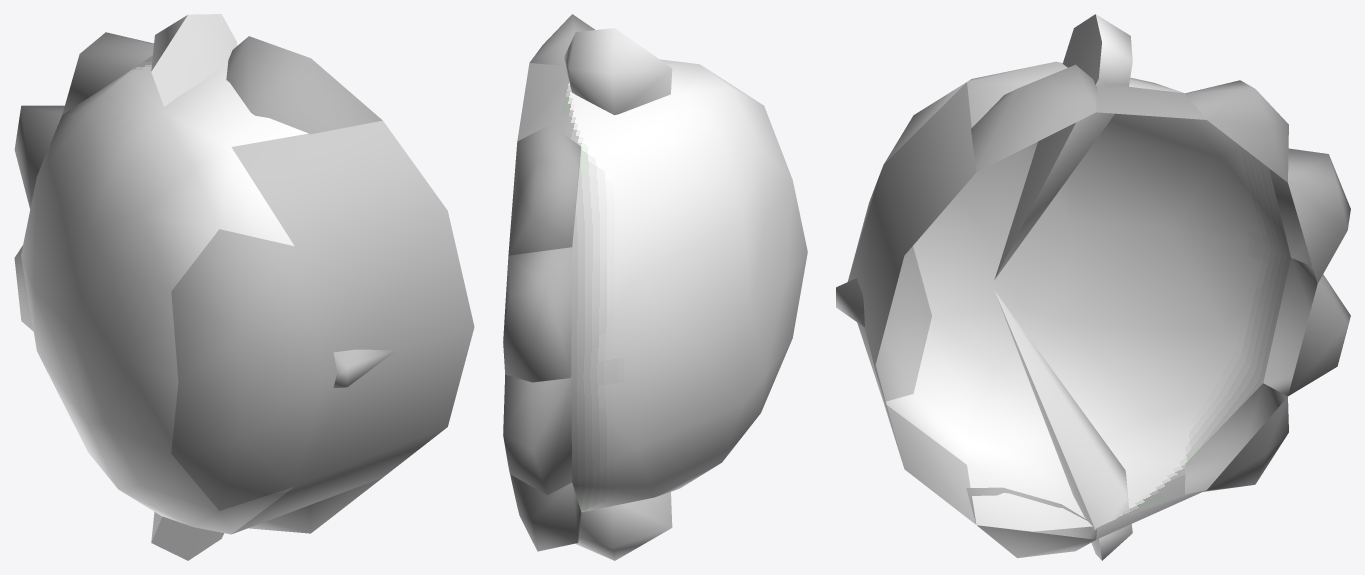
The model's file is boy15b.dae.
The picture shows the model from 3 angles, left to right: view 1: azimuth 30°, elevation 25°; view 2: azimuth 150°, elevation 25°; view 3: azimuth 270°, elevation 25°; orthographic projection. The views are drawn at different scales.
Parts seen in each view (by area): view 1: vsn_mesh_0_, vsn_mesh_1_, vsn_mesh_2_; view 2: vsn_mesh_0_; view 3: vsn_mesh_0_, vsn_mesh_1_, vsn_mesh_2_.
Boxes of the visible parts, x1,y1,x2,y2 form: vsn_mesh_0_: (14,14,382,560); vsn_mesh_1_: (231,120,474,533); vsn_mesh_2_: (171,229,323,510); vsn_mesh_0_: (503,14,807,560); vsn_mesh_0_: (884,14,1350,560); vsn_mesh_1_: (836,82,976,524); vsn_mesh_2_: (847,167,931,401).
Bounding box in the file's own units: 15.5 × 26.71 × 23.08.
3 materials, 1 textured.
